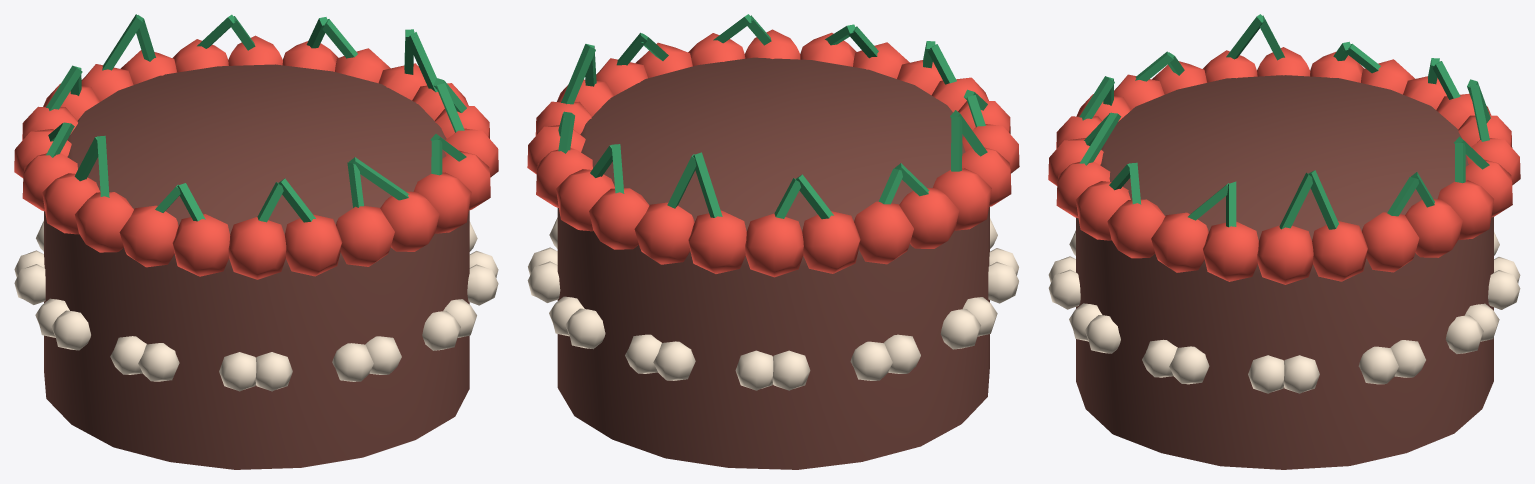
File: SM_mod_range.fbx
3 views of the same model, side by side, from view 1: azimuth 30°, elevation 25°; view 2: azimuth 150°, elevation 25°; view 3: azimuth 270°, elevation 25° (orthographic). The views are drawn at different scales.
Parts seen in each view (by area): view 1: pCube17; view 2: pCube17; view 3: pCube17.
Part boxes in pixels (bbox=[...]): pCube17: bbox=[14, 14, 498, 469]; pCube17: bbox=[527, 14, 1019, 469]; pCube17: bbox=[1048, 14, 1520, 469].
Bounding box in the file's own units: 211 × 143 × 211.
Materials: 1 (1 with a texture image).
